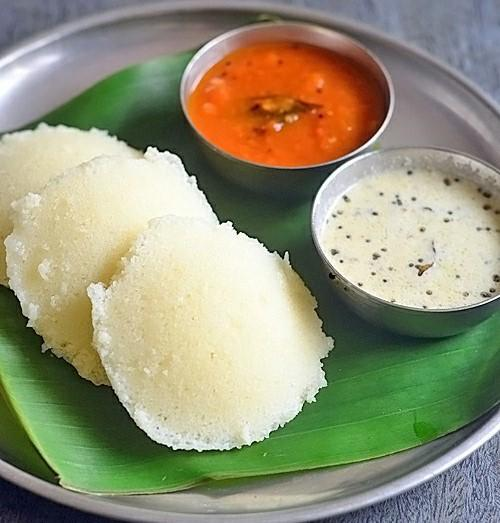CoconutChutney: (322, 166, 500, 310)
Idli: (93, 222, 335, 450), (9, 151, 219, 386), (0, 121, 117, 251)
